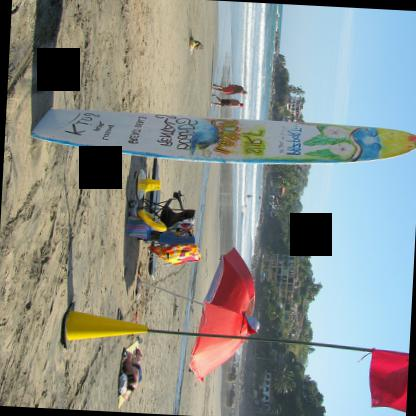handbag: (124, 215, 150, 239)
